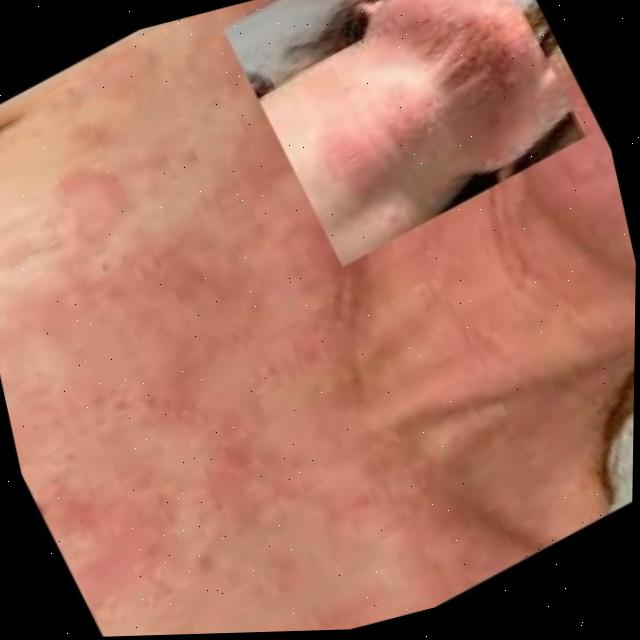Eczema: (0, 72, 375, 640), (397, 0, 523, 125)
